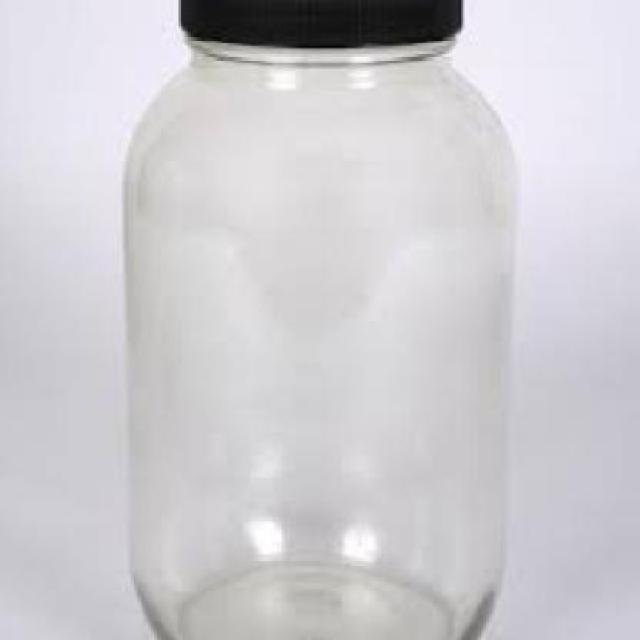kaca: (121, 34, 512, 637)
